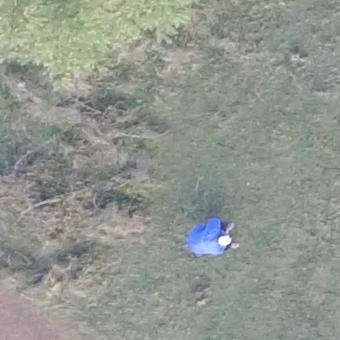human: (185, 214, 241, 258)
